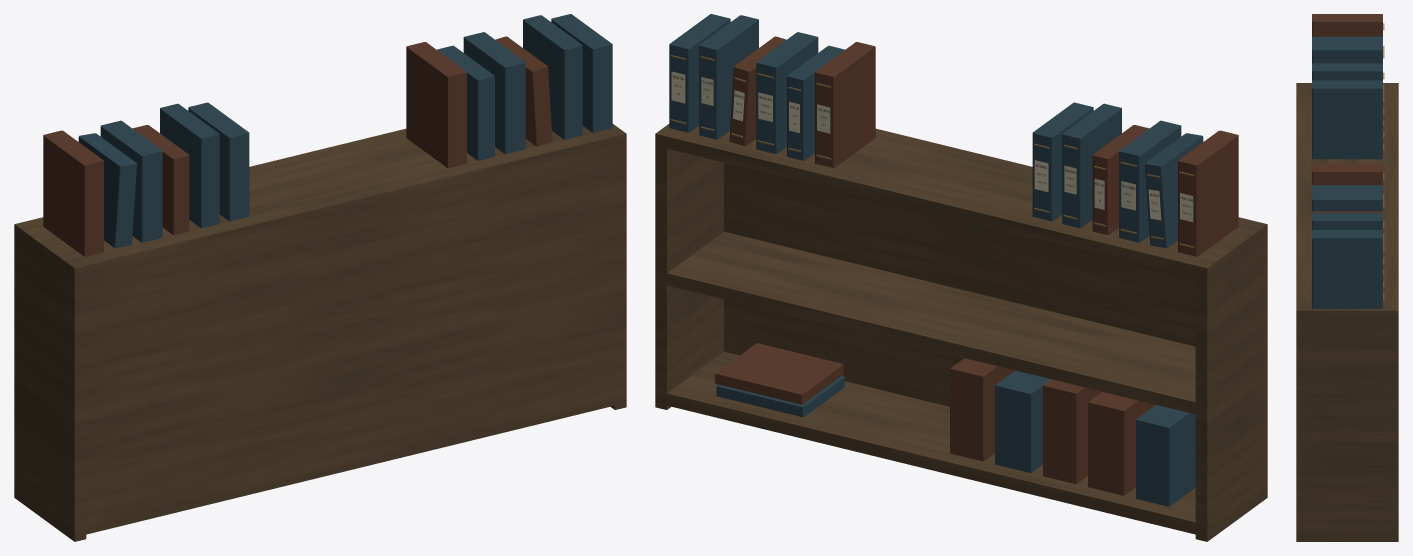
Rendered from SM_ArchiveProps_Bookcase_LOD1.fbx.
3 views of the same model, side by side, from view 1: azimuth 30°, elevation 25°; view 2: azimuth 150°, elevation 25°; view 3: azimuth 270°, elevation 25° (orthographic). The views are drawn at different scales.
Parts seen in each view (by area): view 1: SM_ArchiveProps_Bookcase_LOD1; view 2: SM_ArchiveProps_Bookcase_LOD1; view 3: SM_ArchiveProps_Bookcase_LOD1.
Part boxes in pixels (x1,y1,x2,y2): SM_ArchiveProps_Bookcase_LOD1: (14,14,626,541); SM_ArchiveProps_Bookcase_LOD1: (655,14,1267,541); SM_ArchiveProps_Bookcase_LOD1: (1296,14,1398,541).
Size of the model in its own units: 1.9 by 0.36 by 1.2.
